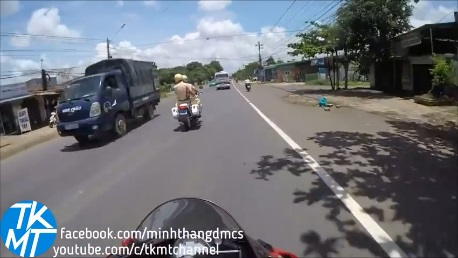police: (166, 71, 208, 134)
